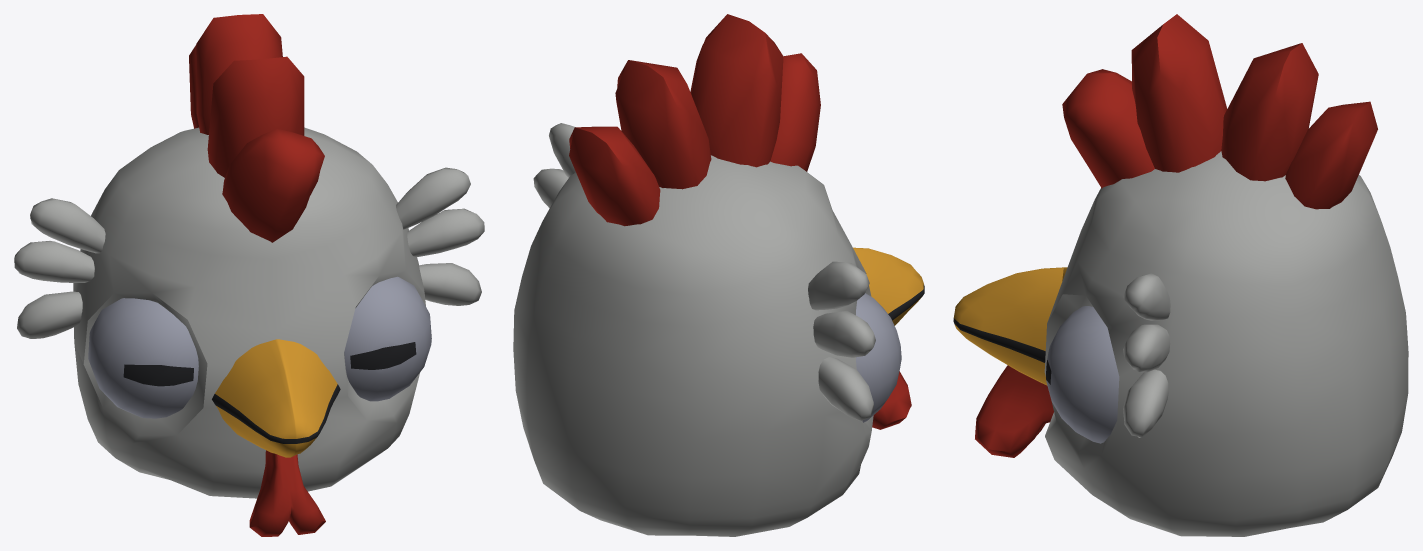
The model's file is Chicken_Blob.fbx.
3 renders of one model, left to right at view 1: azimuth 30°, elevation 25°; view 2: azimuth 150°, elevation 25°; view 3: azimuth 270°, elevation 25°, orthographic. The views are drawn at different scales.
Visible parts, largest first — view 1: Chicken_Blob; view 2: Chicken_Blob; view 3: Chicken_Blob.
Part boxes in pixels (x1,y1,x2,y2): Chicken_Blob: [14, 14, 484, 536]; Chicken_Blob: [513, 14, 924, 536]; Chicken_Blob: [953, 14, 1408, 536].
Bounding box in the file's own units: 213 × 225 × 198.
